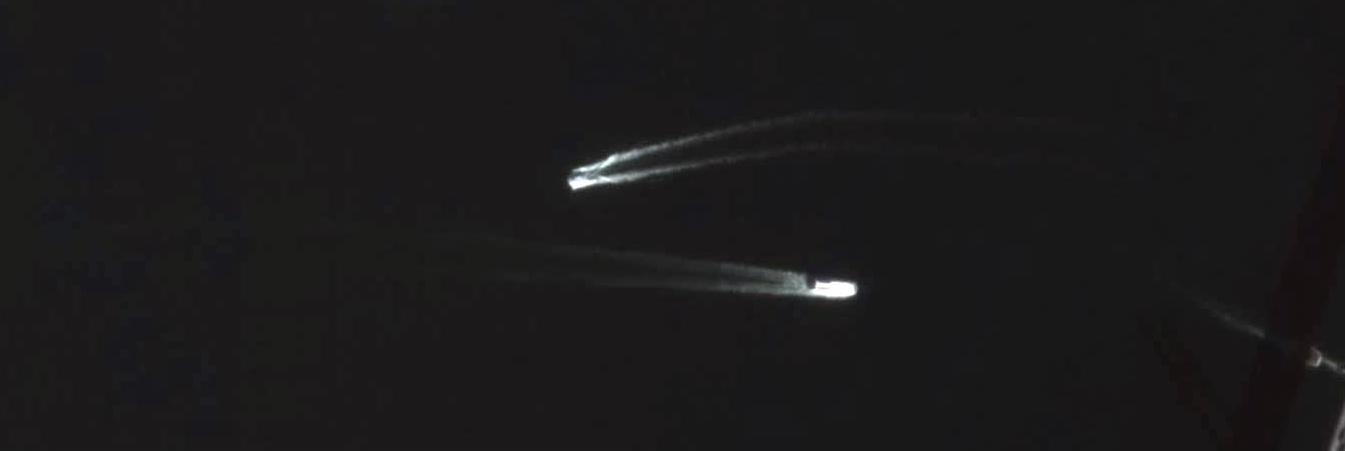person: (815, 281, 857, 298), (568, 168, 597, 181)
